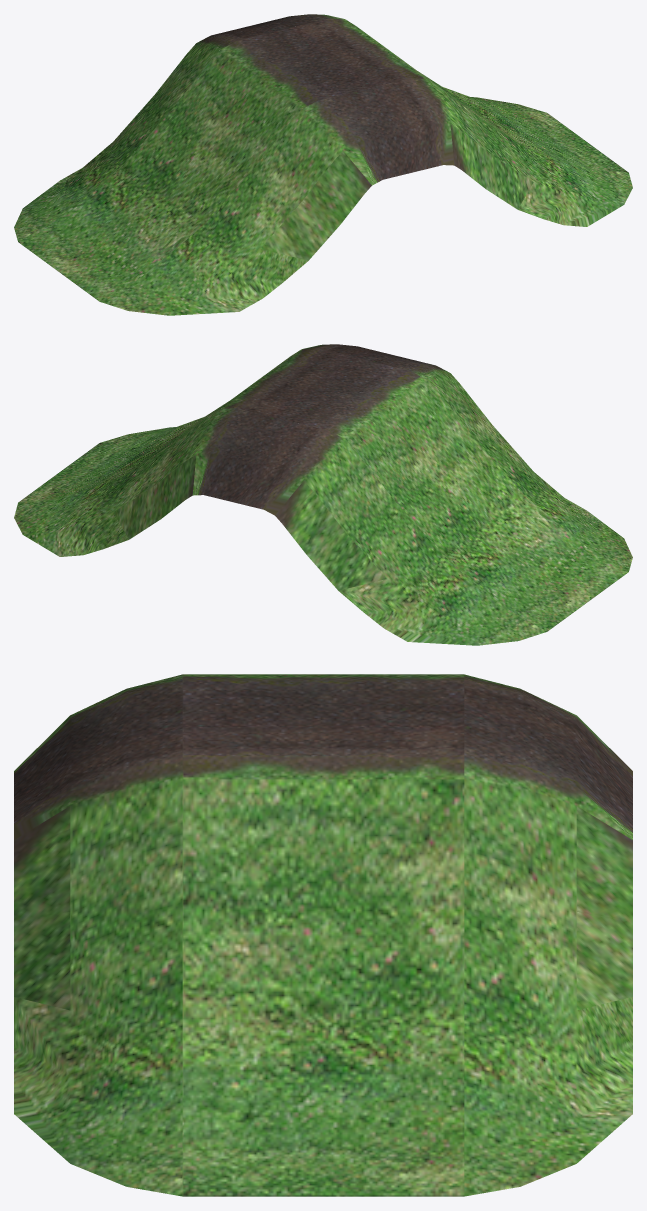
Rendered from 1nasip_10_TSM.gltf.
3 renders of one model, top to bottom at view 1: azimuth 30°, elevation 25°; view 2: azimuth 150°, elevation 25°; view 3: azimuth 270°, elevation 25°, orthographic. The views are drawn at different scales.
Size of the model in its own units: 37.47 by 10.02 by 22.
Materials: 1 (1 with a texture image).
